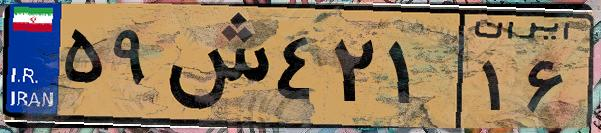1: (385, 28, 445, 110), (475, 38, 525, 113)
2: (330, 28, 385, 110)
4: (270, 28, 330, 110)
5: (57, 26, 110, 100)
6: (525, 38, 570, 115)
9: (110, 28, 158, 98)
ش: (158, 12, 270, 120)
